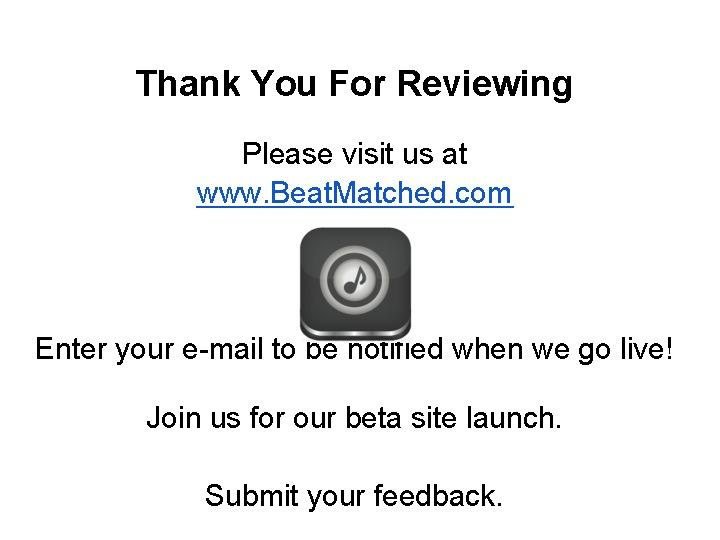paragraph: (22, 122, 697, 520)
title: (127, 51, 589, 117)
